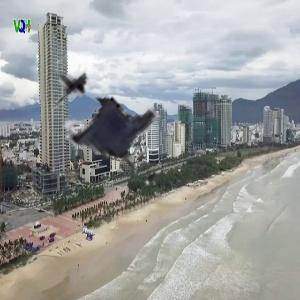drone: (33, 24, 230, 221)
